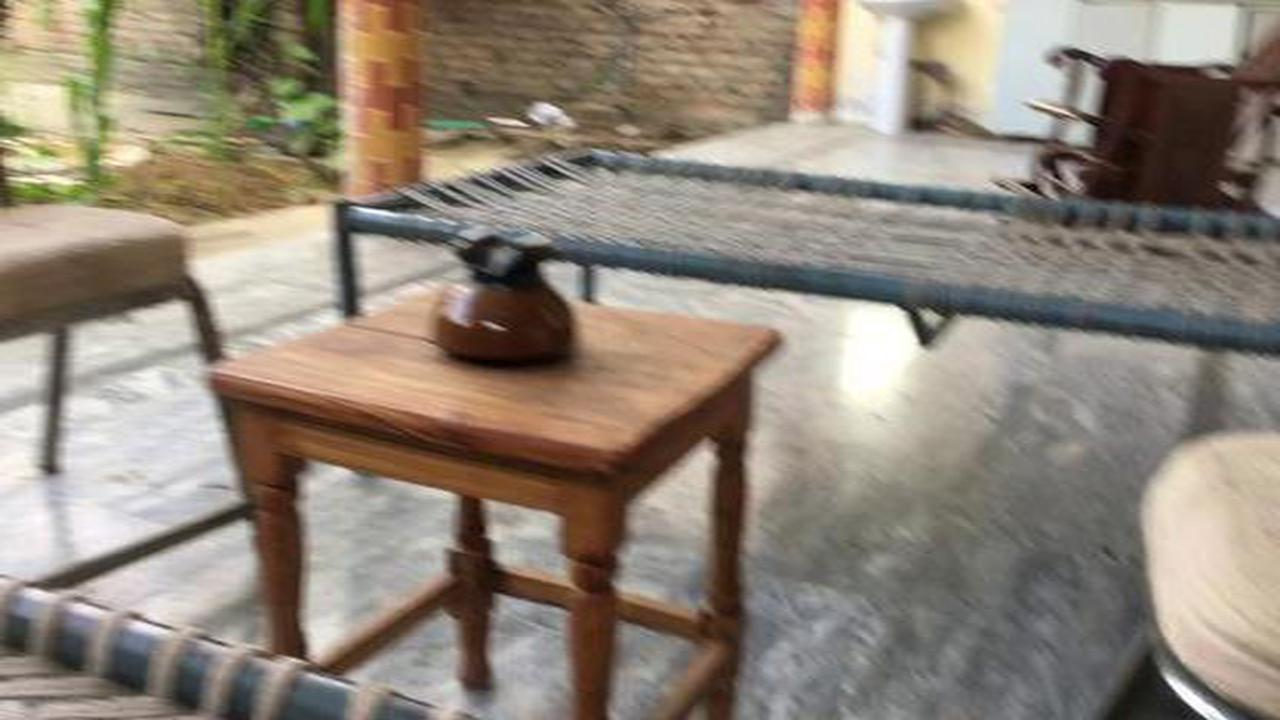insulator_pin: (404, 205, 601, 373)
